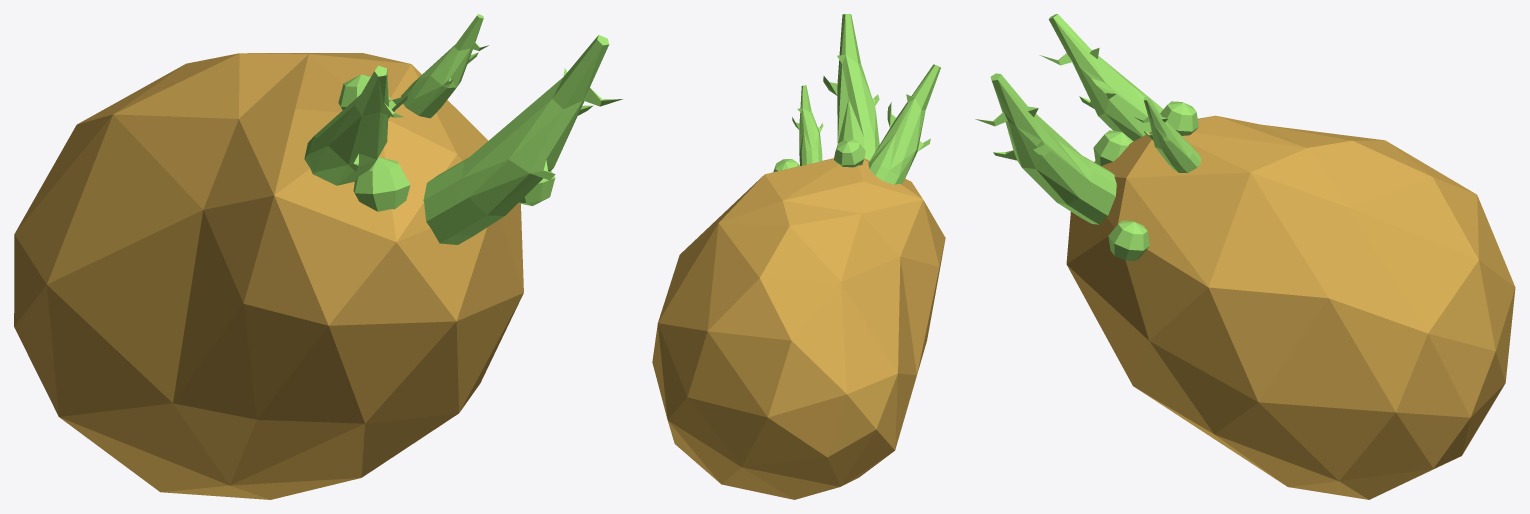
File: potato_plant1.fbx
3 views of the same model, side by side, from view 1: azimuth 30°, elevation 25°; view 2: azimuth 150°, elevation 25°; view 3: azimuth 270°, elevation 25° (orthographic). The views are drawn at different scales.
Parts seen in each view (by area): view 1: potato; view 2: potato; view 3: potato.
Part boxes in pixels (x1,y1,x2,y2): potato: (14,14,622,499); potato: (652,14,945,499); potato: (975,14,1515,499).
Size of the model in its own units: 43.05 by 60.5 by 65.58.
